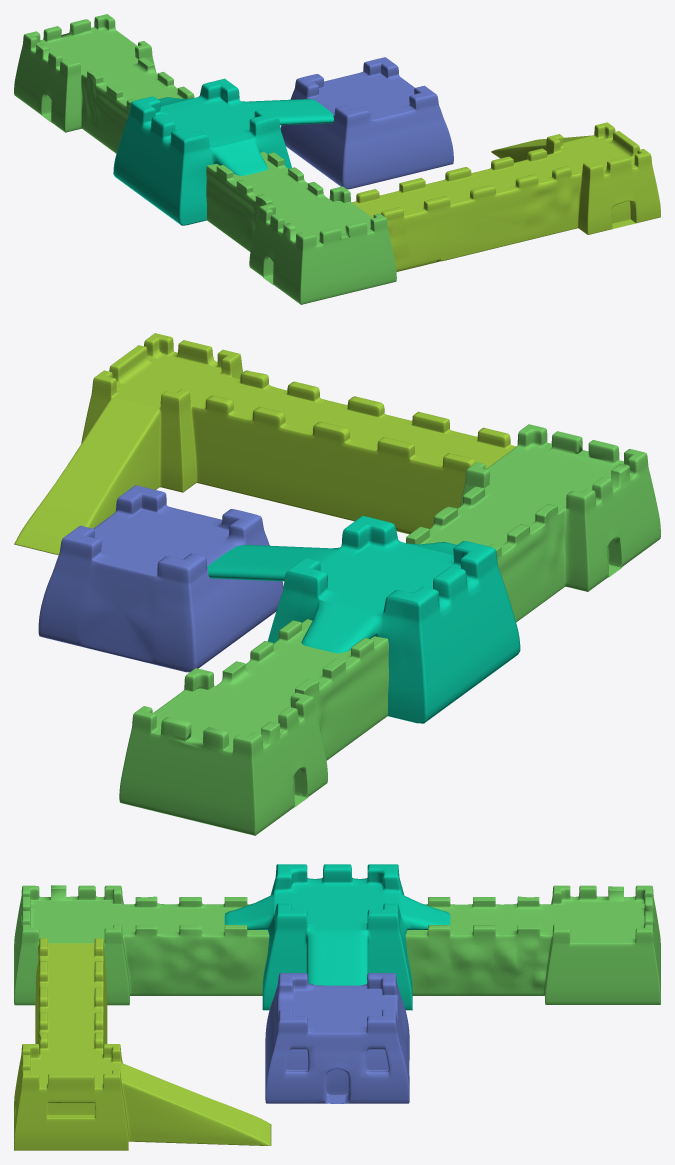
The model's file is castle01.fbx.
The picture shows the model from 3 angles, top to bottom: view 1: azimuth 30°, elevation 25°; view 2: azimuth 150°, elevation 25°; view 3: azimuth 270°, elevation 25°; orthographic projection. The views are drawn at different scales.
Parts seen in each view (by area): view 1: BACK, RIGHT.001, MIDDLEBACK, CENTER; view 2: BACK, RIGHT.001, MIDDLEBACK, CENTER; view 3: BACK, RIGHT.001, MIDDLEBACK, CENTER.
Part boxes in pixels (left/top/right/bottom): BACK: left=14, top=14, right=396, bottom=304; RIGHT.001: left=352, top=122, right=660, bottom=271; MIDDLEBACK: left=113, top=78, right=333, bottom=225; CENTER: left=280, top=57, right=453, bottom=189; BACK: left=119, top=424, right=660, bottom=835; RIGHT.001: left=14, top=333, right=516, bottom=555; MIDDLEBACK: left=207, top=515, right=520, bottom=723; CENTER: left=38, top=485, right=283, bottom=672; BACK: left=14, top=885, right=660, bottom=1005; RIGHT.001: left=14, top=938, right=271, bottom=1150; MIDDLEBACK: left=224, top=864, right=450, bottom=1010; CENTER: left=265, top=973, right=409, bottom=1103.
Size of the model in its own units: 4810 by 1055 by 6439.
